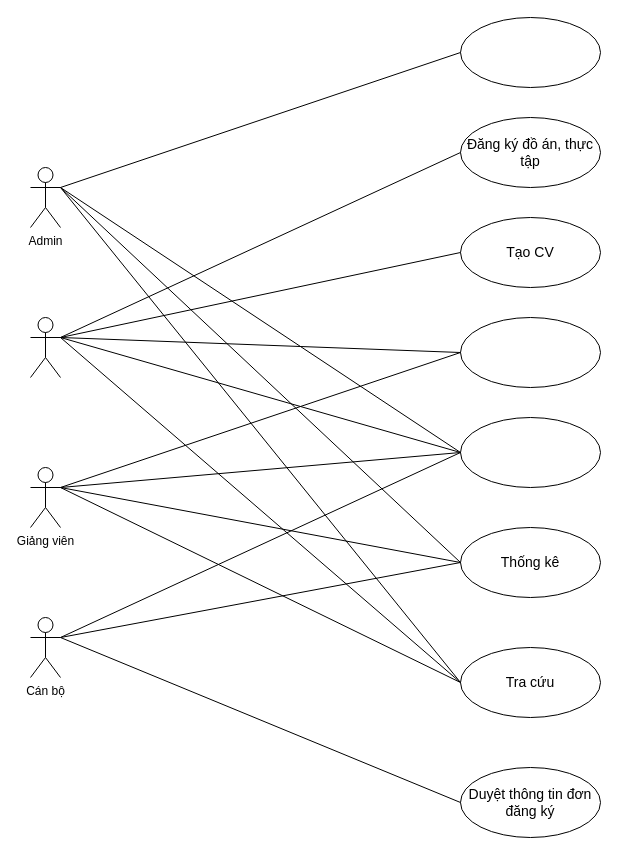
Some shapes in this 618 by 855 pixel diagram are drawn without their labels. The centre of each missing label's shape, as x and y in pixels:
"Cập nhật thông tin profile" goes at [530,352].
"Quản lý người dùng" goes at [530,52].
"Sinh viên" goes at [45,347].
"Đăng nhập" goes at [530,452].
